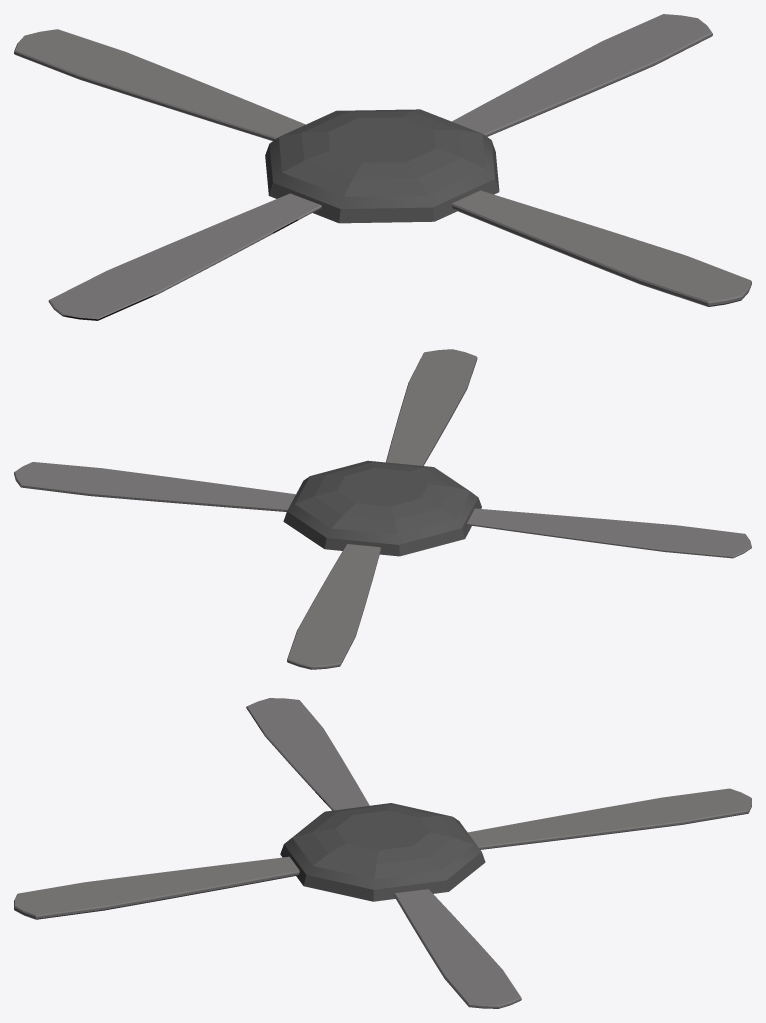
File: pervane_middle.fbx
The picture shows the model from 3 angles, top to bottom: view 1: azimuth 30°, elevation 25°; view 2: azimuth 150°, elevation 25°; view 3: azimuth 270°, elevation 25°; orthographic projection. The views are drawn at different scales.
Visible parts, largest first — view 1: polySurface3413; view 2: polySurface3413; view 3: polySurface3413.
Part boxes in pixels (bbox=[...]): polySurface3413: bbox=[14, 14, 751, 320]; polySurface3413: bbox=[14, 349, 751, 669]; polySurface3413: bbox=[14, 698, 751, 1008].
Bounding box in the file's own units: 2.91 × 0.1547 × 2.9.
Materials: 1 (1 with a texture image).
